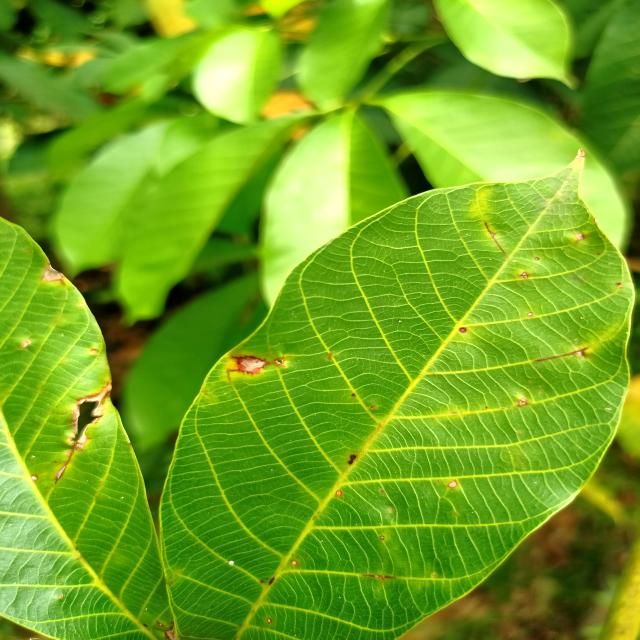Colletotrichum: (448, 480, 458, 488), (31, 474, 38, 481), (458, 327, 466, 333), (336, 491, 342, 496), (267, 618, 272, 623), (380, 535, 385, 540), (292, 560, 298, 564), (527, 312, 533, 316), (535, 257, 539, 260), (260, 580, 263, 583)
Corynespora: (225, 355, 273, 381), (54, 446, 78, 484), (532, 347, 590, 362), (485, 221, 505, 254), (361, 573, 396, 582)
Leaf-Blight: (241, 358, 265, 372), (46, 263, 63, 282), (166, 626, 176, 640), (575, 233, 584, 240)
